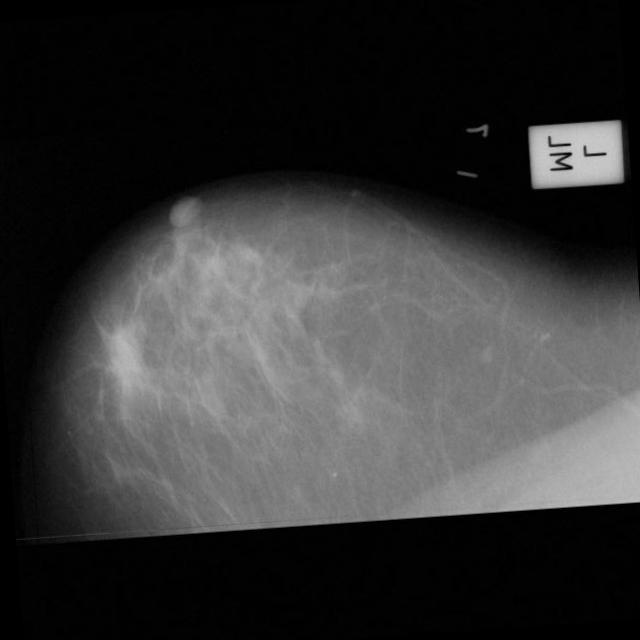ASYM: (98, 328, 148, 379)
